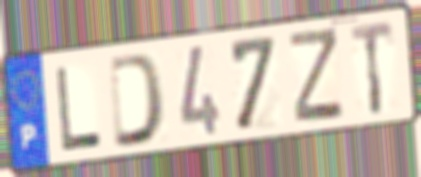4: (177, 42, 223, 141)
7: (227, 35, 281, 136)
D: (106, 50, 169, 152)
L: (52, 64, 104, 154)
T: (348, 18, 396, 118)
Z: (287, 24, 346, 124)
